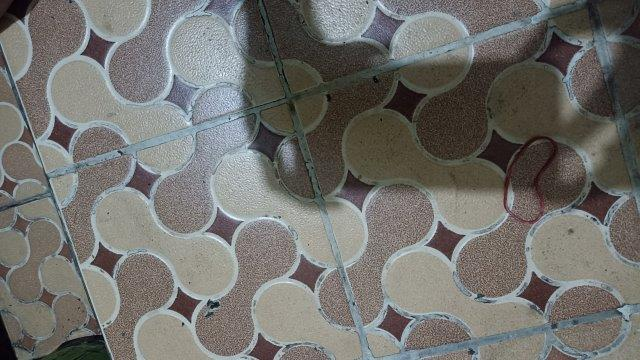karet: (503, 137, 557, 223)
